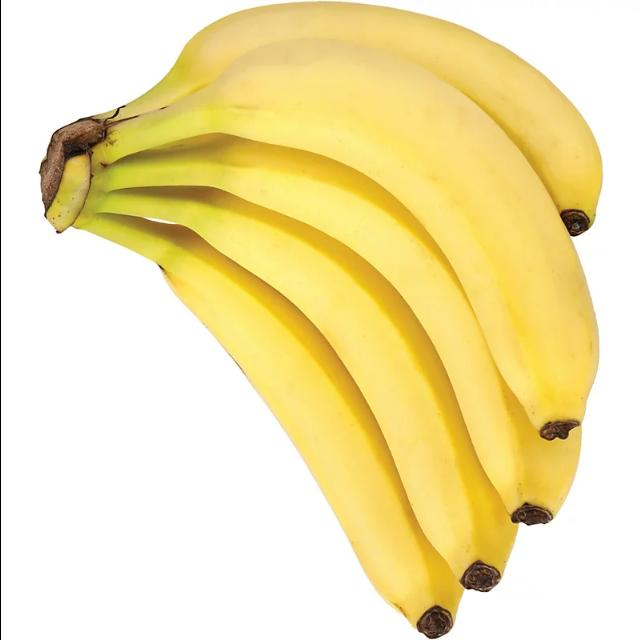Bananas: (41, 1, 604, 639)
